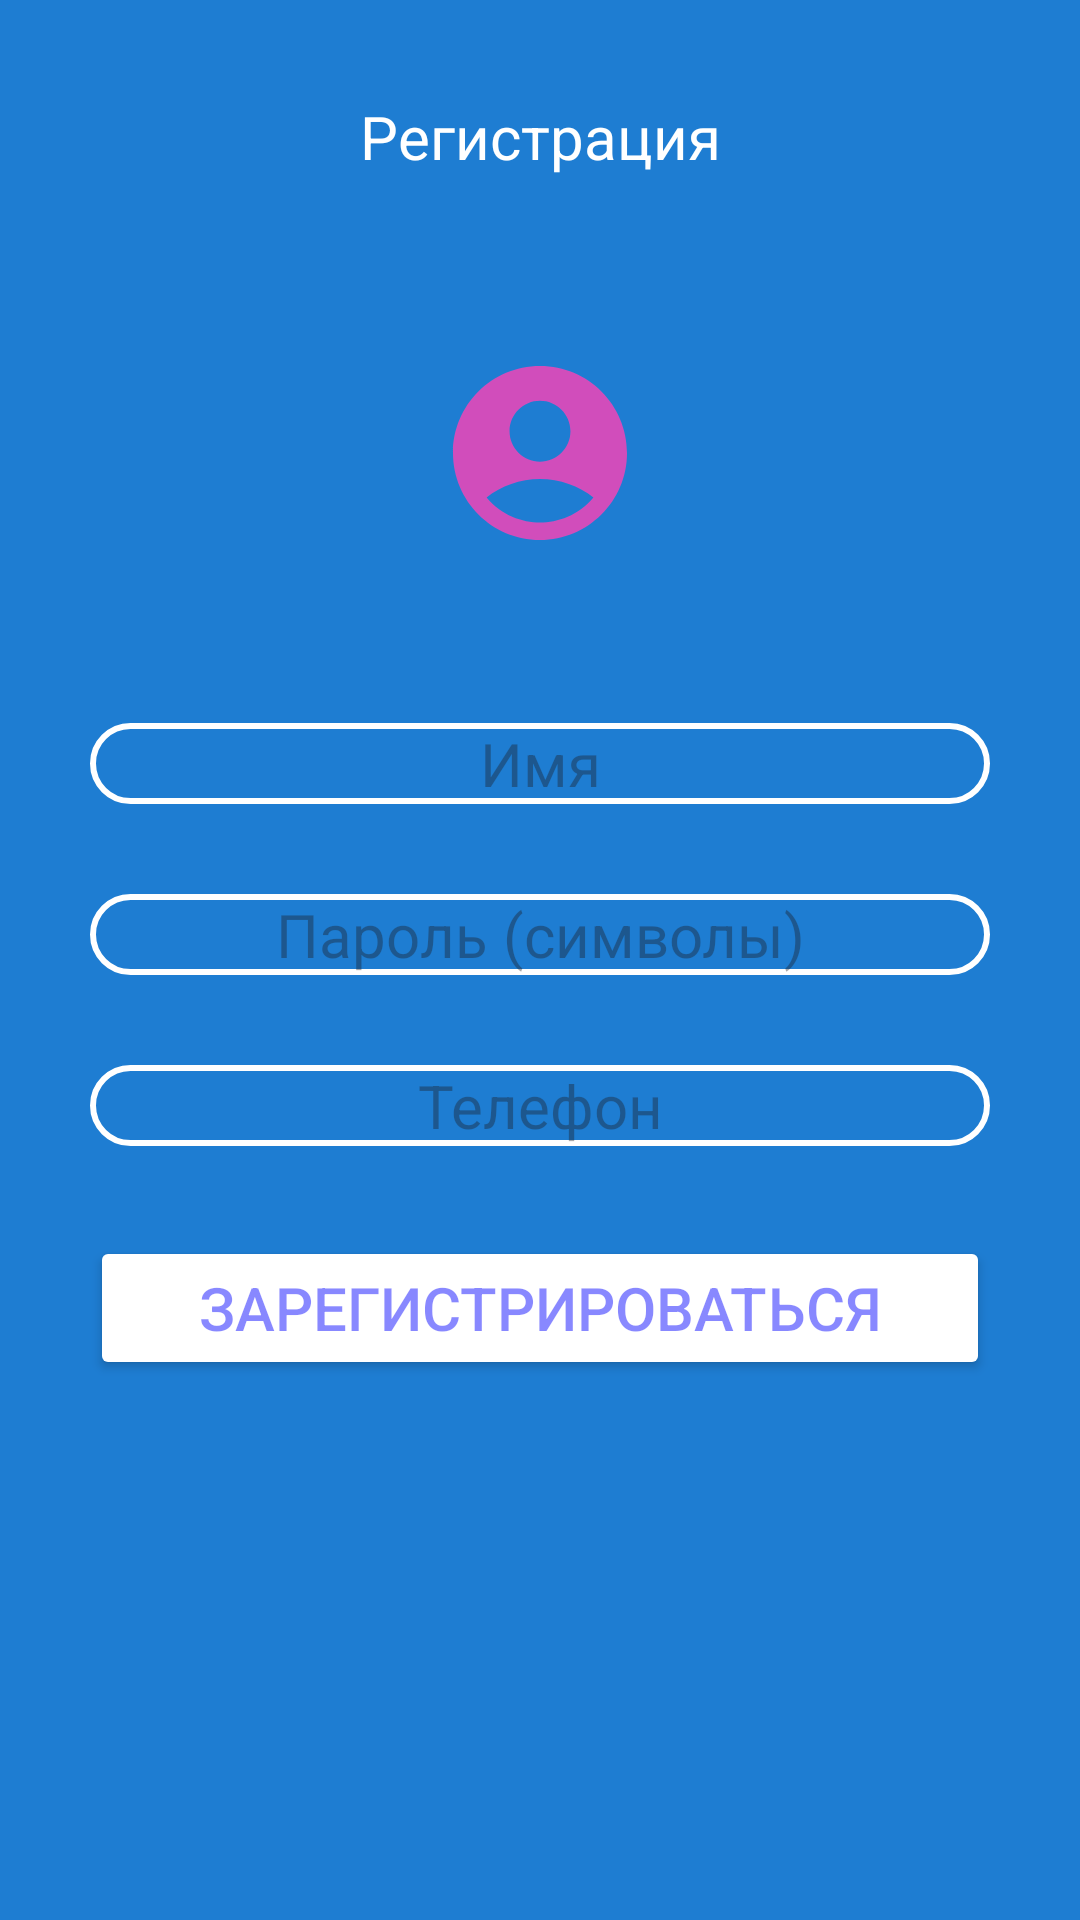

Locate icon controls on the screen. Image size 1080px×1920px, boxes as [x1,y1,x2,y2].
account: [453,366,627,540]
